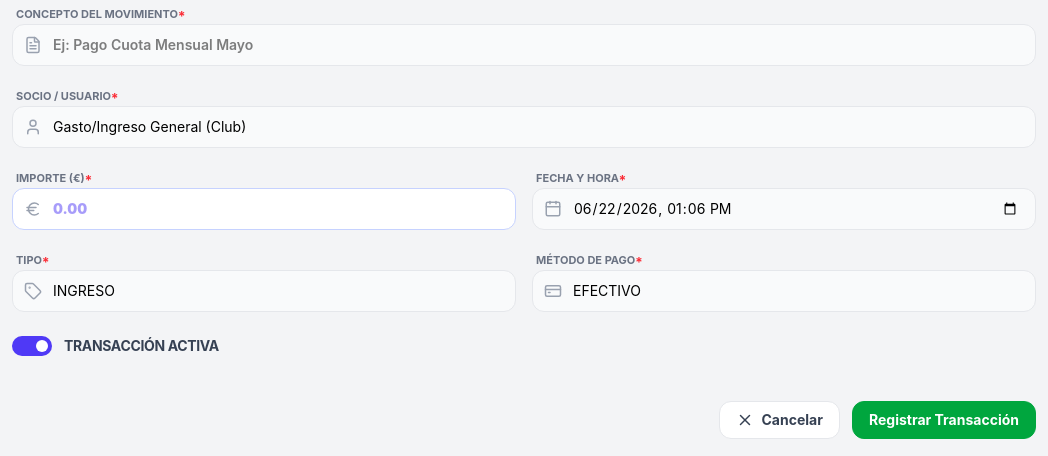
Test: TransactionForm › debe cambiar el estado de activo al hacer click en el toggle
Click the button "Transacción Activa". click: click(115, 346)
box: [12,336,219,356]
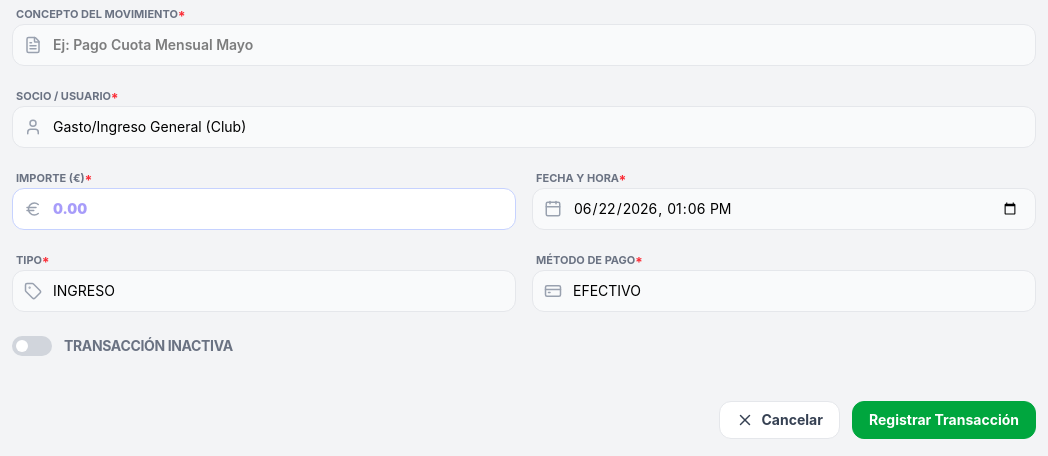
Result: the text "Transacción Inactiva" is shown at [64,336,233,356]
